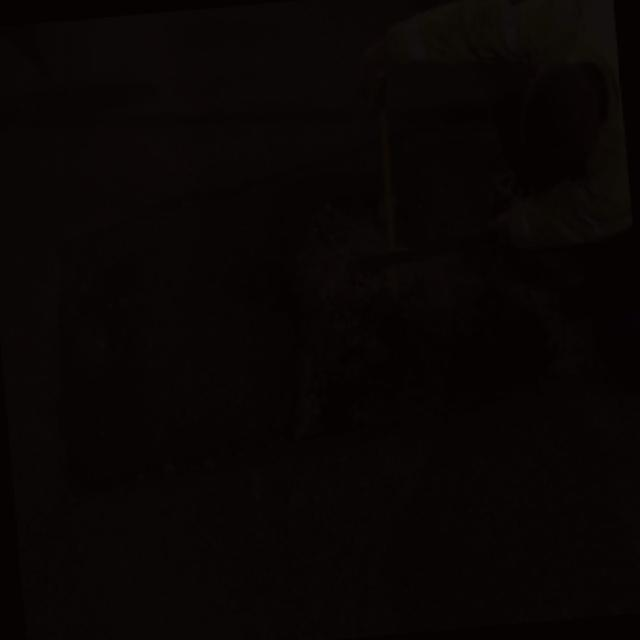Pothole: (260, 196, 555, 440)
